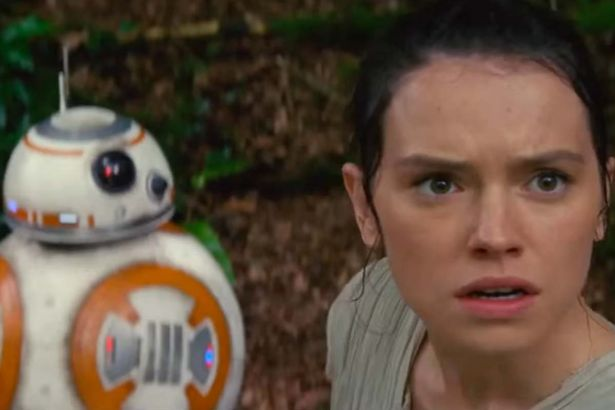bb8: (1, 106, 245, 410)
